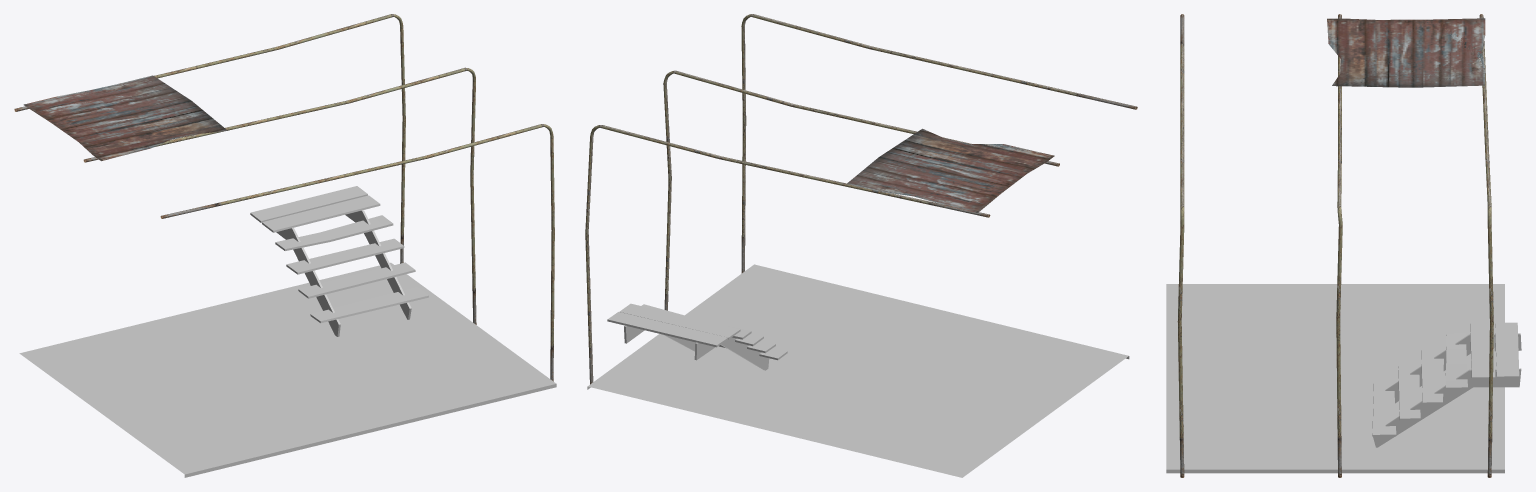
File: Porch_07_2.fbx
The picture shows the model from 3 angles, left to right: view 1: azimuth 30°, elevation 25°; view 2: azimuth 150°, elevation 25°; view 3: azimuth 270°, elevation 25°; orthographic projection. The views are drawn at different scales.
Visible parts, largest first — view 1: Porch_07_2; view 2: Porch_07_2; view 3: Porch_07_2.
Part boxes in pixels (x1=…): Porch_07_2: x1=14, y1=14, x2=556, y2=477; Porch_07_2: x1=585, y1=14, x2=1137, y2=477; Porch_07_2: x1=1166, y1=14, x2=1521, y2=477.
Size of the model in its own units: 599 by 456 by 381.
